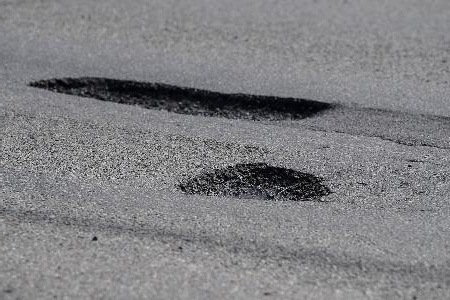pothole: (25, 74, 337, 123), (175, 162, 333, 206)
